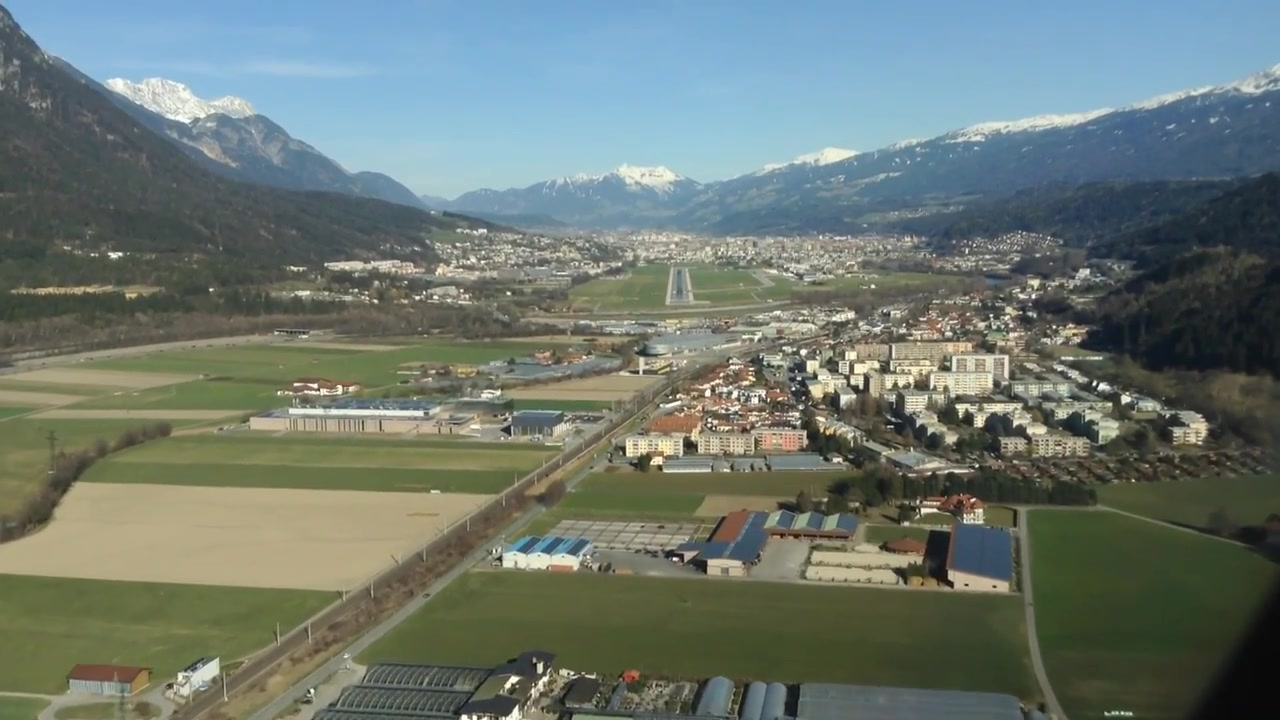runway: (665, 267, 693, 306)
